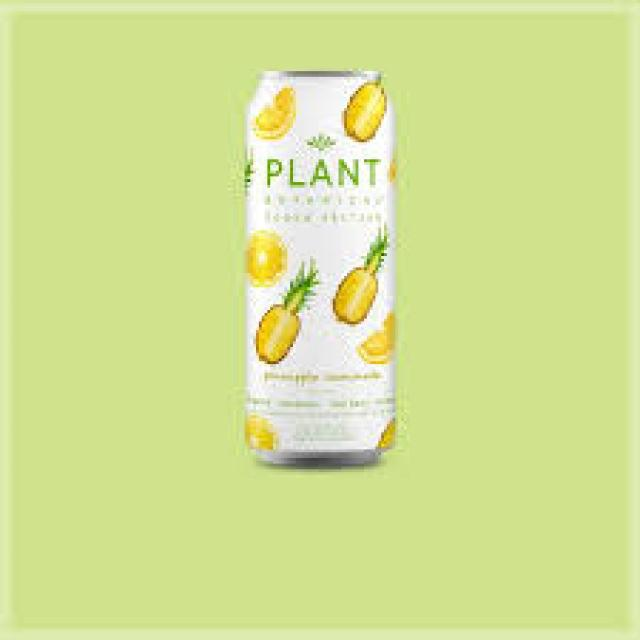Cans: (230, 57, 416, 475)
